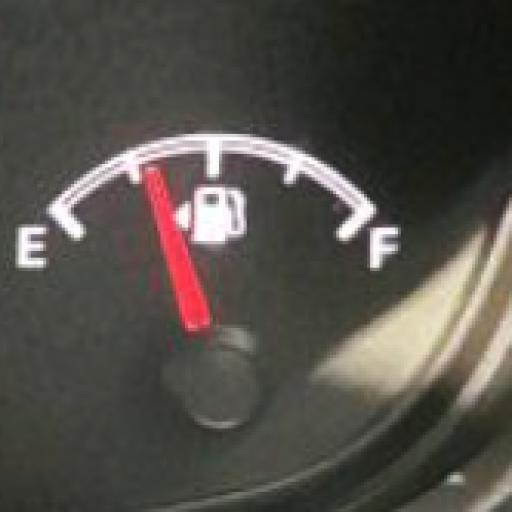empty: (14, 222, 50, 272)
fuel_icon: (193, 182, 248, 248)
full: (370, 226, 400, 270)
guage_area: (6, 129, 421, 463)
needle_center: (159, 313, 276, 438)
needle_tip: (142, 164, 170, 222)
